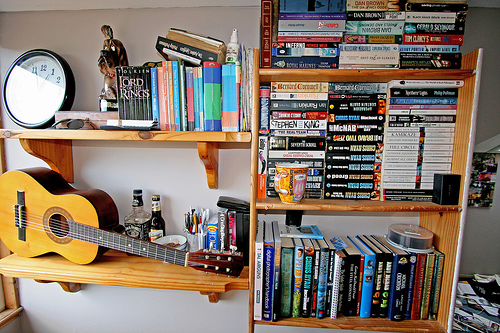guitar: (1, 166, 249, 281)
